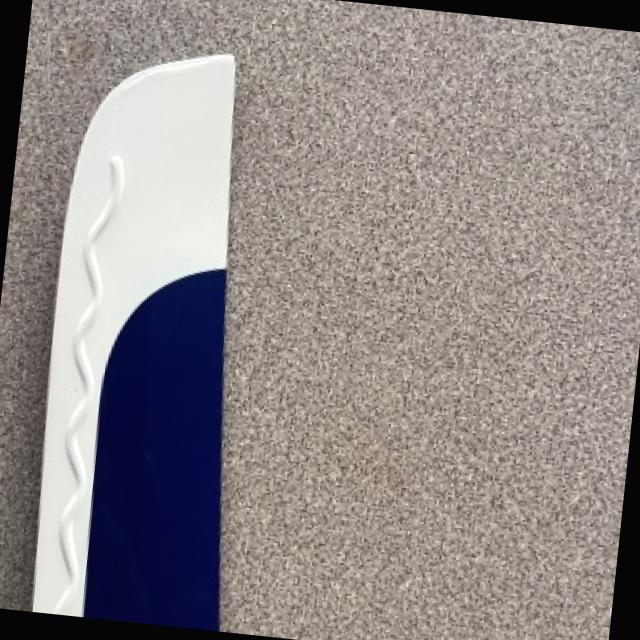healthy: (32, 53, 230, 629)
